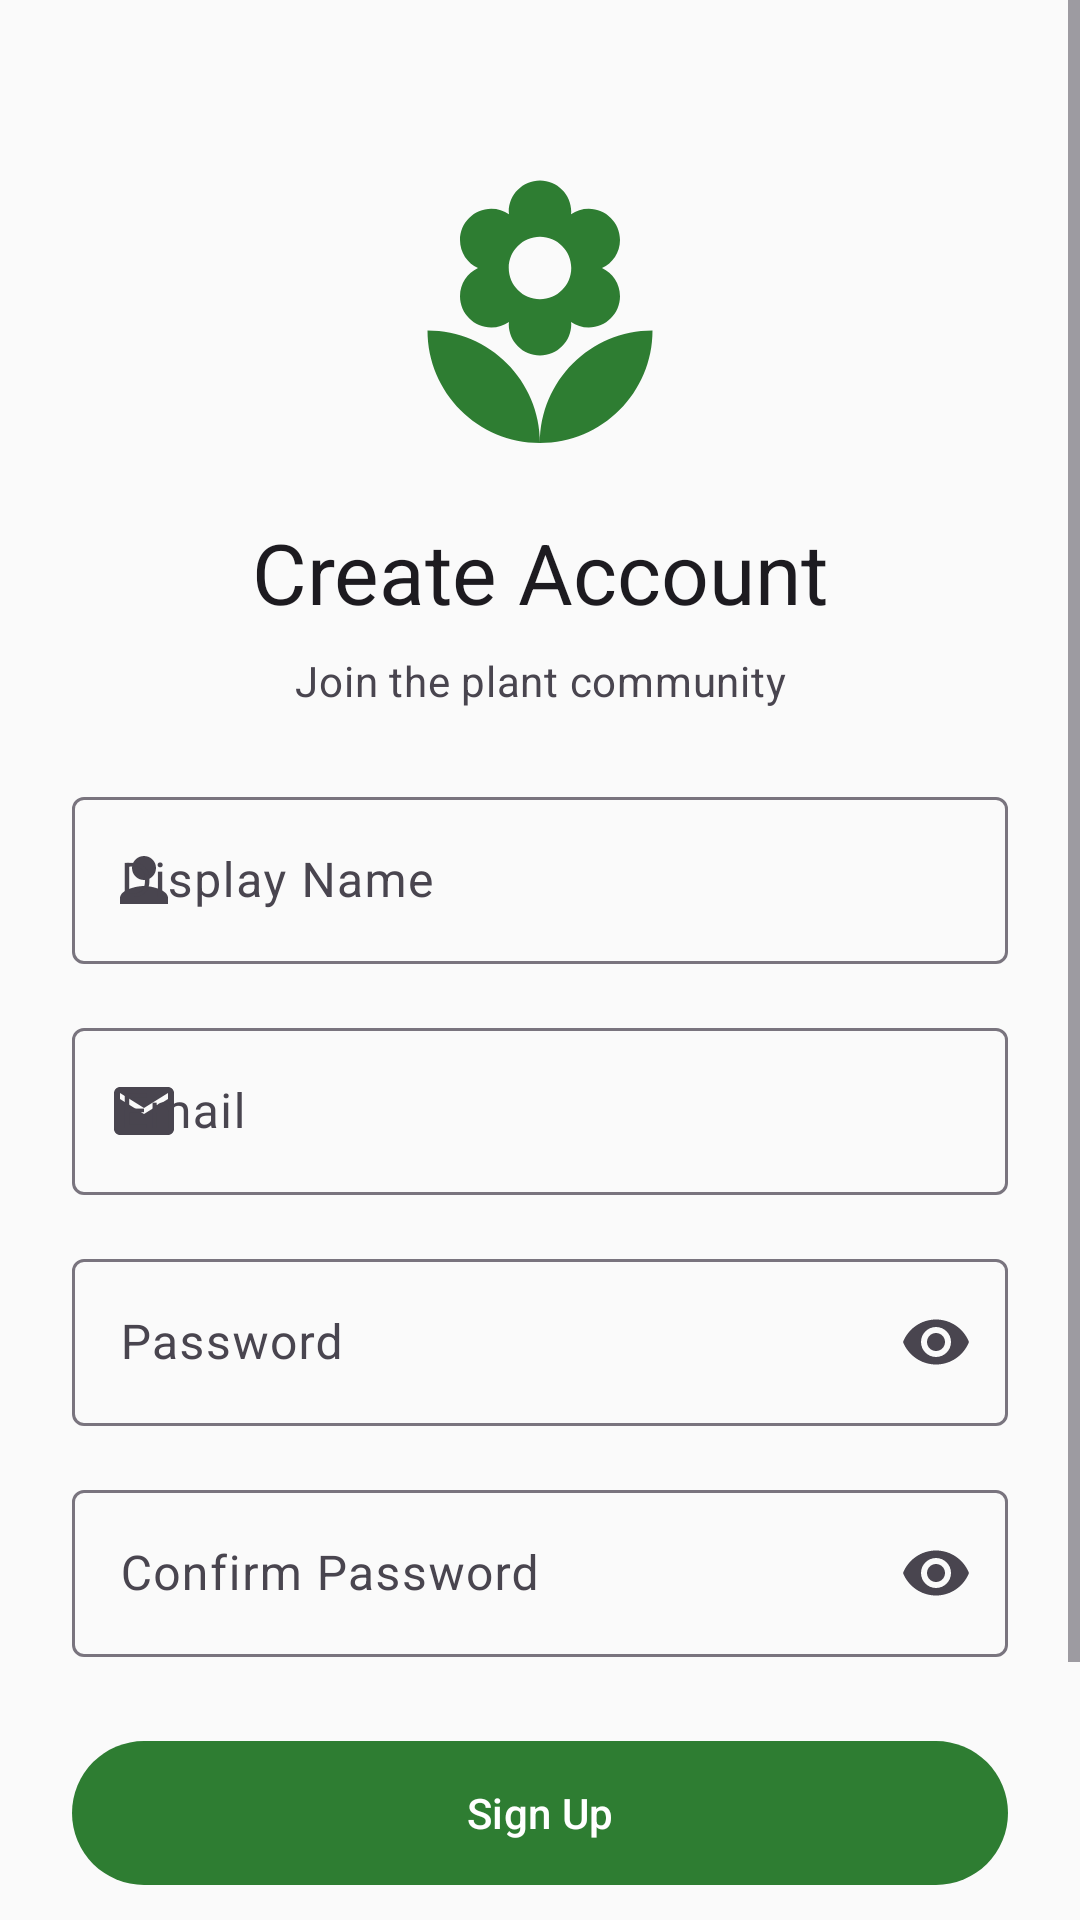

Locate icon controls on the screen. Image size 1080px×1920px, boxes as bbox=(x1, y1, x2, y2).
plant: bbox=(427, 180, 653, 443)
